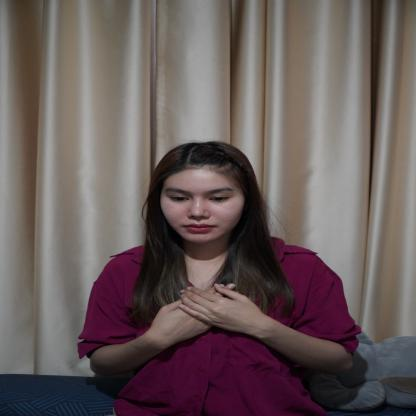Grieve: (131, 278, 282, 350)
